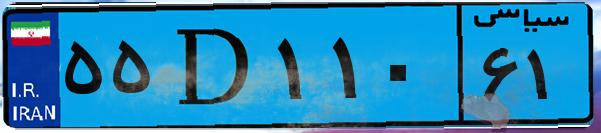0: (385, 28, 445, 110)
1: (270, 28, 330, 110), (330, 28, 385, 110), (525, 38, 570, 115)
5: (57, 26, 110, 100), (110, 28, 158, 98)
6: (475, 38, 525, 113)
D: (158, 12, 270, 120)
